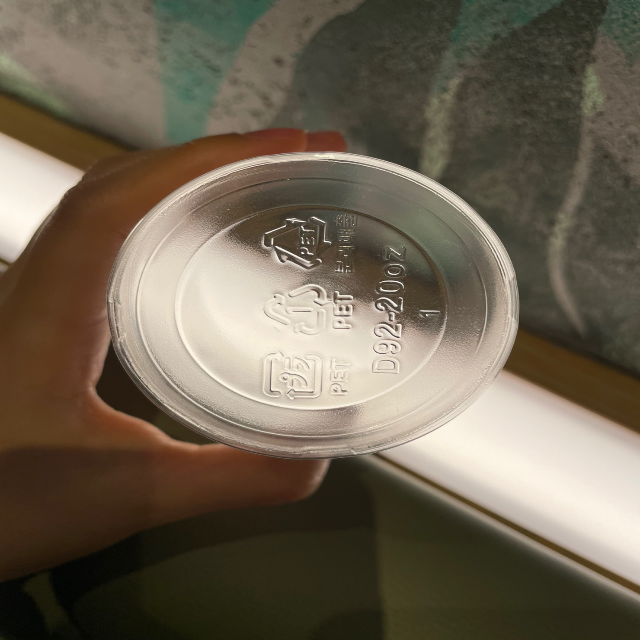pet: (262, 209, 360, 278), (260, 281, 359, 342), (259, 350, 354, 403)
